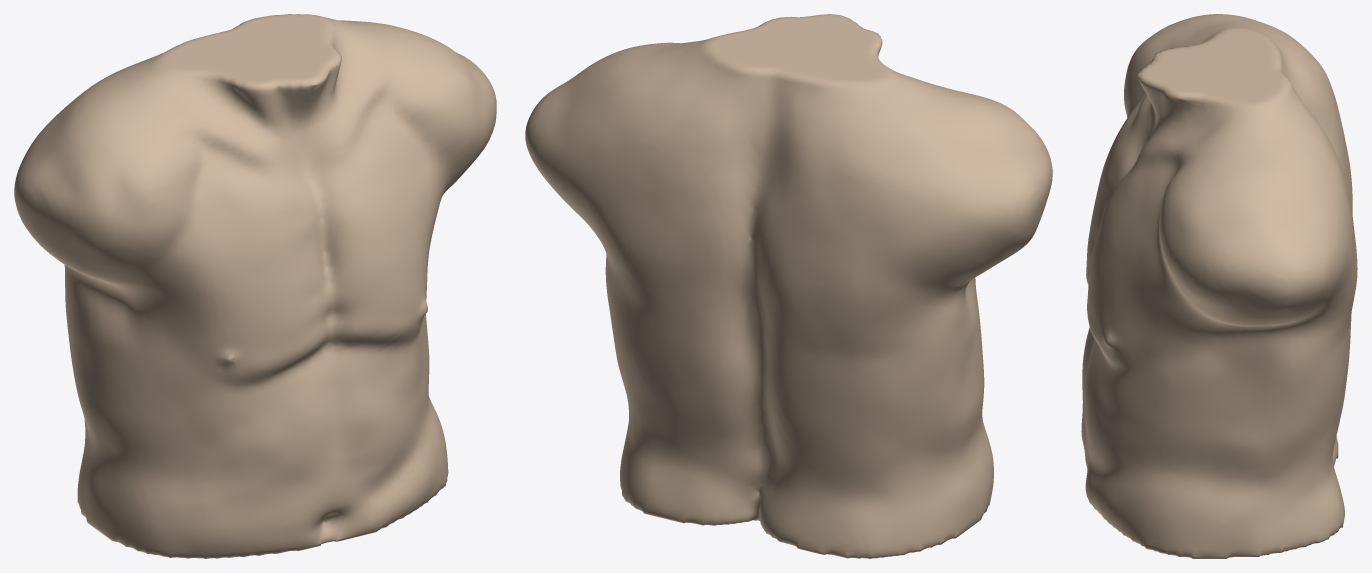
The model's file is chest.fbx.
3 views of the same model, side by side, from view 1: azimuth 30°, elevation 25°; view 2: azimuth 150°, elevation 25°; view 3: azimuth 270°, elevation 25° (orthographic). The views are drawn at different scales.
Parts seen in each view (by area): view 1: chest remesh; view 2: chest remesh; view 3: chest remesh.
Part boxes in pixels (left/top/right/bottom): chest remesh: left=14, top=14, right=496, bottom=558; chest remesh: left=525, top=14, right=1052, bottom=558; chest remesh: left=1081, top=14, right=1357, bottom=558.
Size of the model in its own units: 133 by 118 by 70.86.
